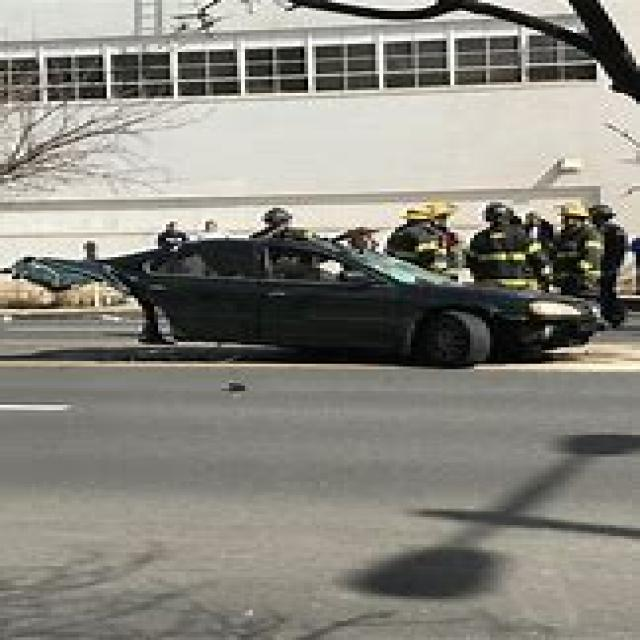Accident: (38, 95, 640, 483)
